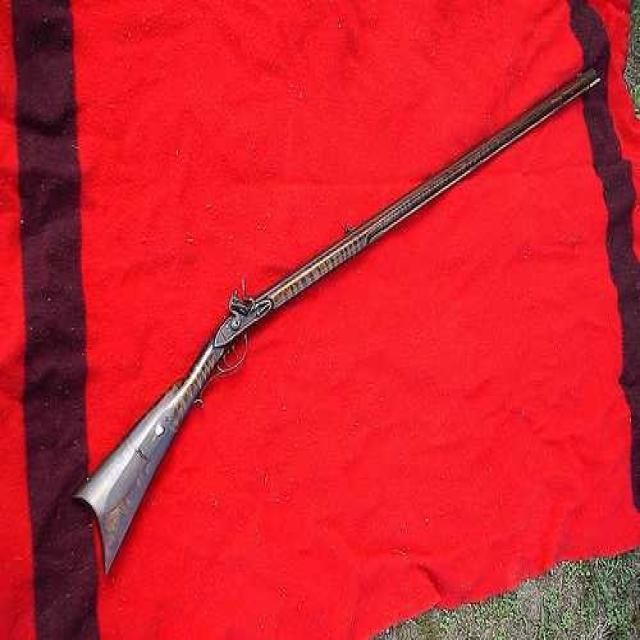heavyweapon: (67, 47, 620, 604)
